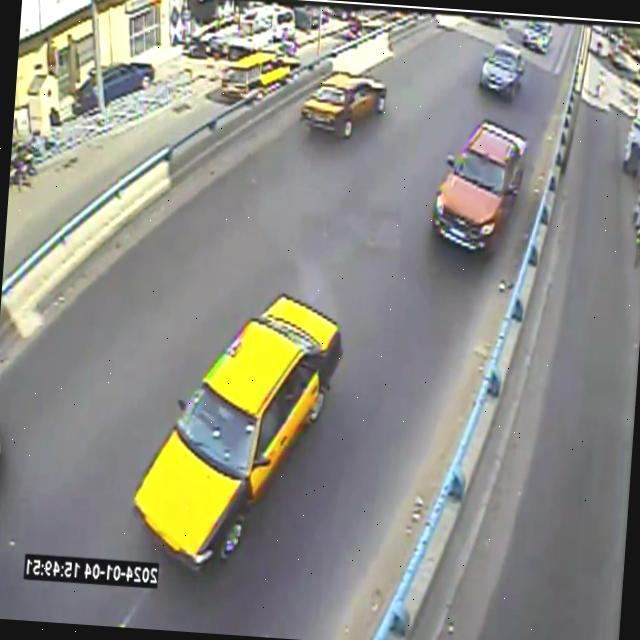car: (135, 294, 342, 567), (433, 120, 526, 251), (301, 72, 387, 138), (221, 50, 299, 101), (479, 43, 524, 99), (523, 21, 552, 53)
